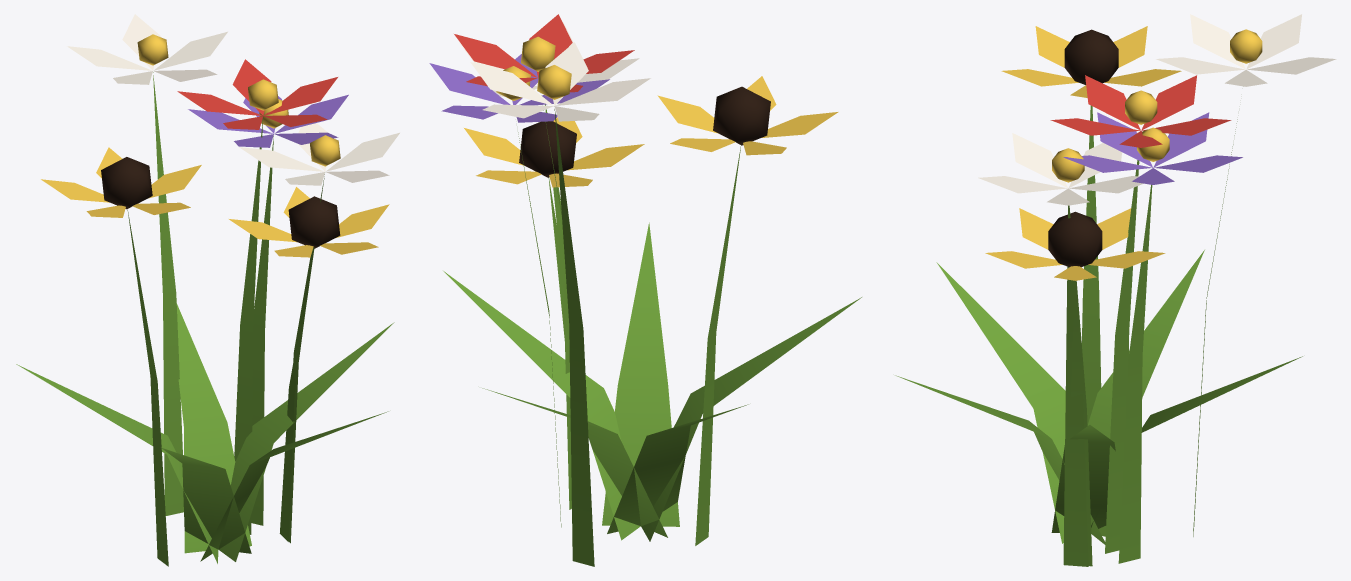
The model's file is wildflowers.glb.
3 views of the same model, side by side, from view 1: azimuth 30°, elevation 25°; view 2: azimuth 150°, elevation 25°; view 3: azimuth 270°, elevation 25° (orthographic). The views are drawn at different scales.
Visible parts, largest first — view 1: wildflowers, wildflowers_outline; view 2: wildflowers, wildflowers_outline; view 3: wildflowers, wildflowers_outline.
Part boxes in pixels (x1=…): wildflowers: x1=16, y1=14, x2=399, y2=566; wildflowers_outline: x1=101, y1=157, x2=340, y2=248; wildflowers: x1=429, y1=14, x2=861, y2=566; wildflowers_outline: x1=519, y1=86, x2=770, y2=177; wildflowers: x1=895, y1=14, x2=1336, y2=566; wildflowers_outline: x1=1048, y1=29, x2=1118, y2=267.
Bounding box in the file's own units: 0.3271 × 0.4396 × 0.3497.
